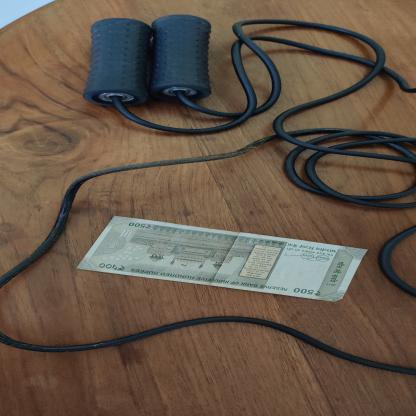New500Back: (71, 216, 371, 302)
